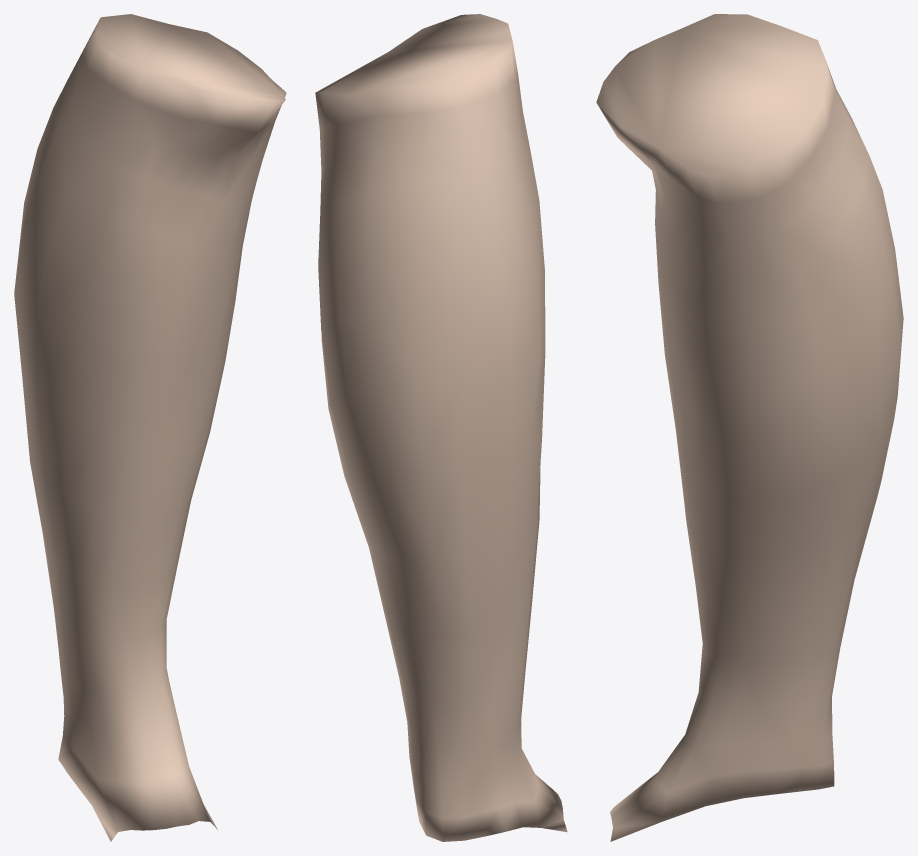
File: left_lower_leg.dae
3 views of the same model, side by side, from view 1: azimuth 30°, elevation 25°; view 2: azimuth 150°, elevation 25°; view 3: azimuth 270°, elevation 25° (orthographic). The views are drawn at different scales.
Parts seen in each view (by area): view 1: left-lower-leg; view 2: left-lower-leg; view 3: left-lower-leg.
Part boxes in pixels (x1=…): left-lower-leg: x1=14, y1=14, x2=286, y2=841; left-lower-leg: x1=315, y1=14, x2=567, y2=841; left-lower-leg: x1=596, y1=14, x2=903, y2=841.
Bounding box in the file's own units: 0.1225 × 0.1412 × 0.409.
